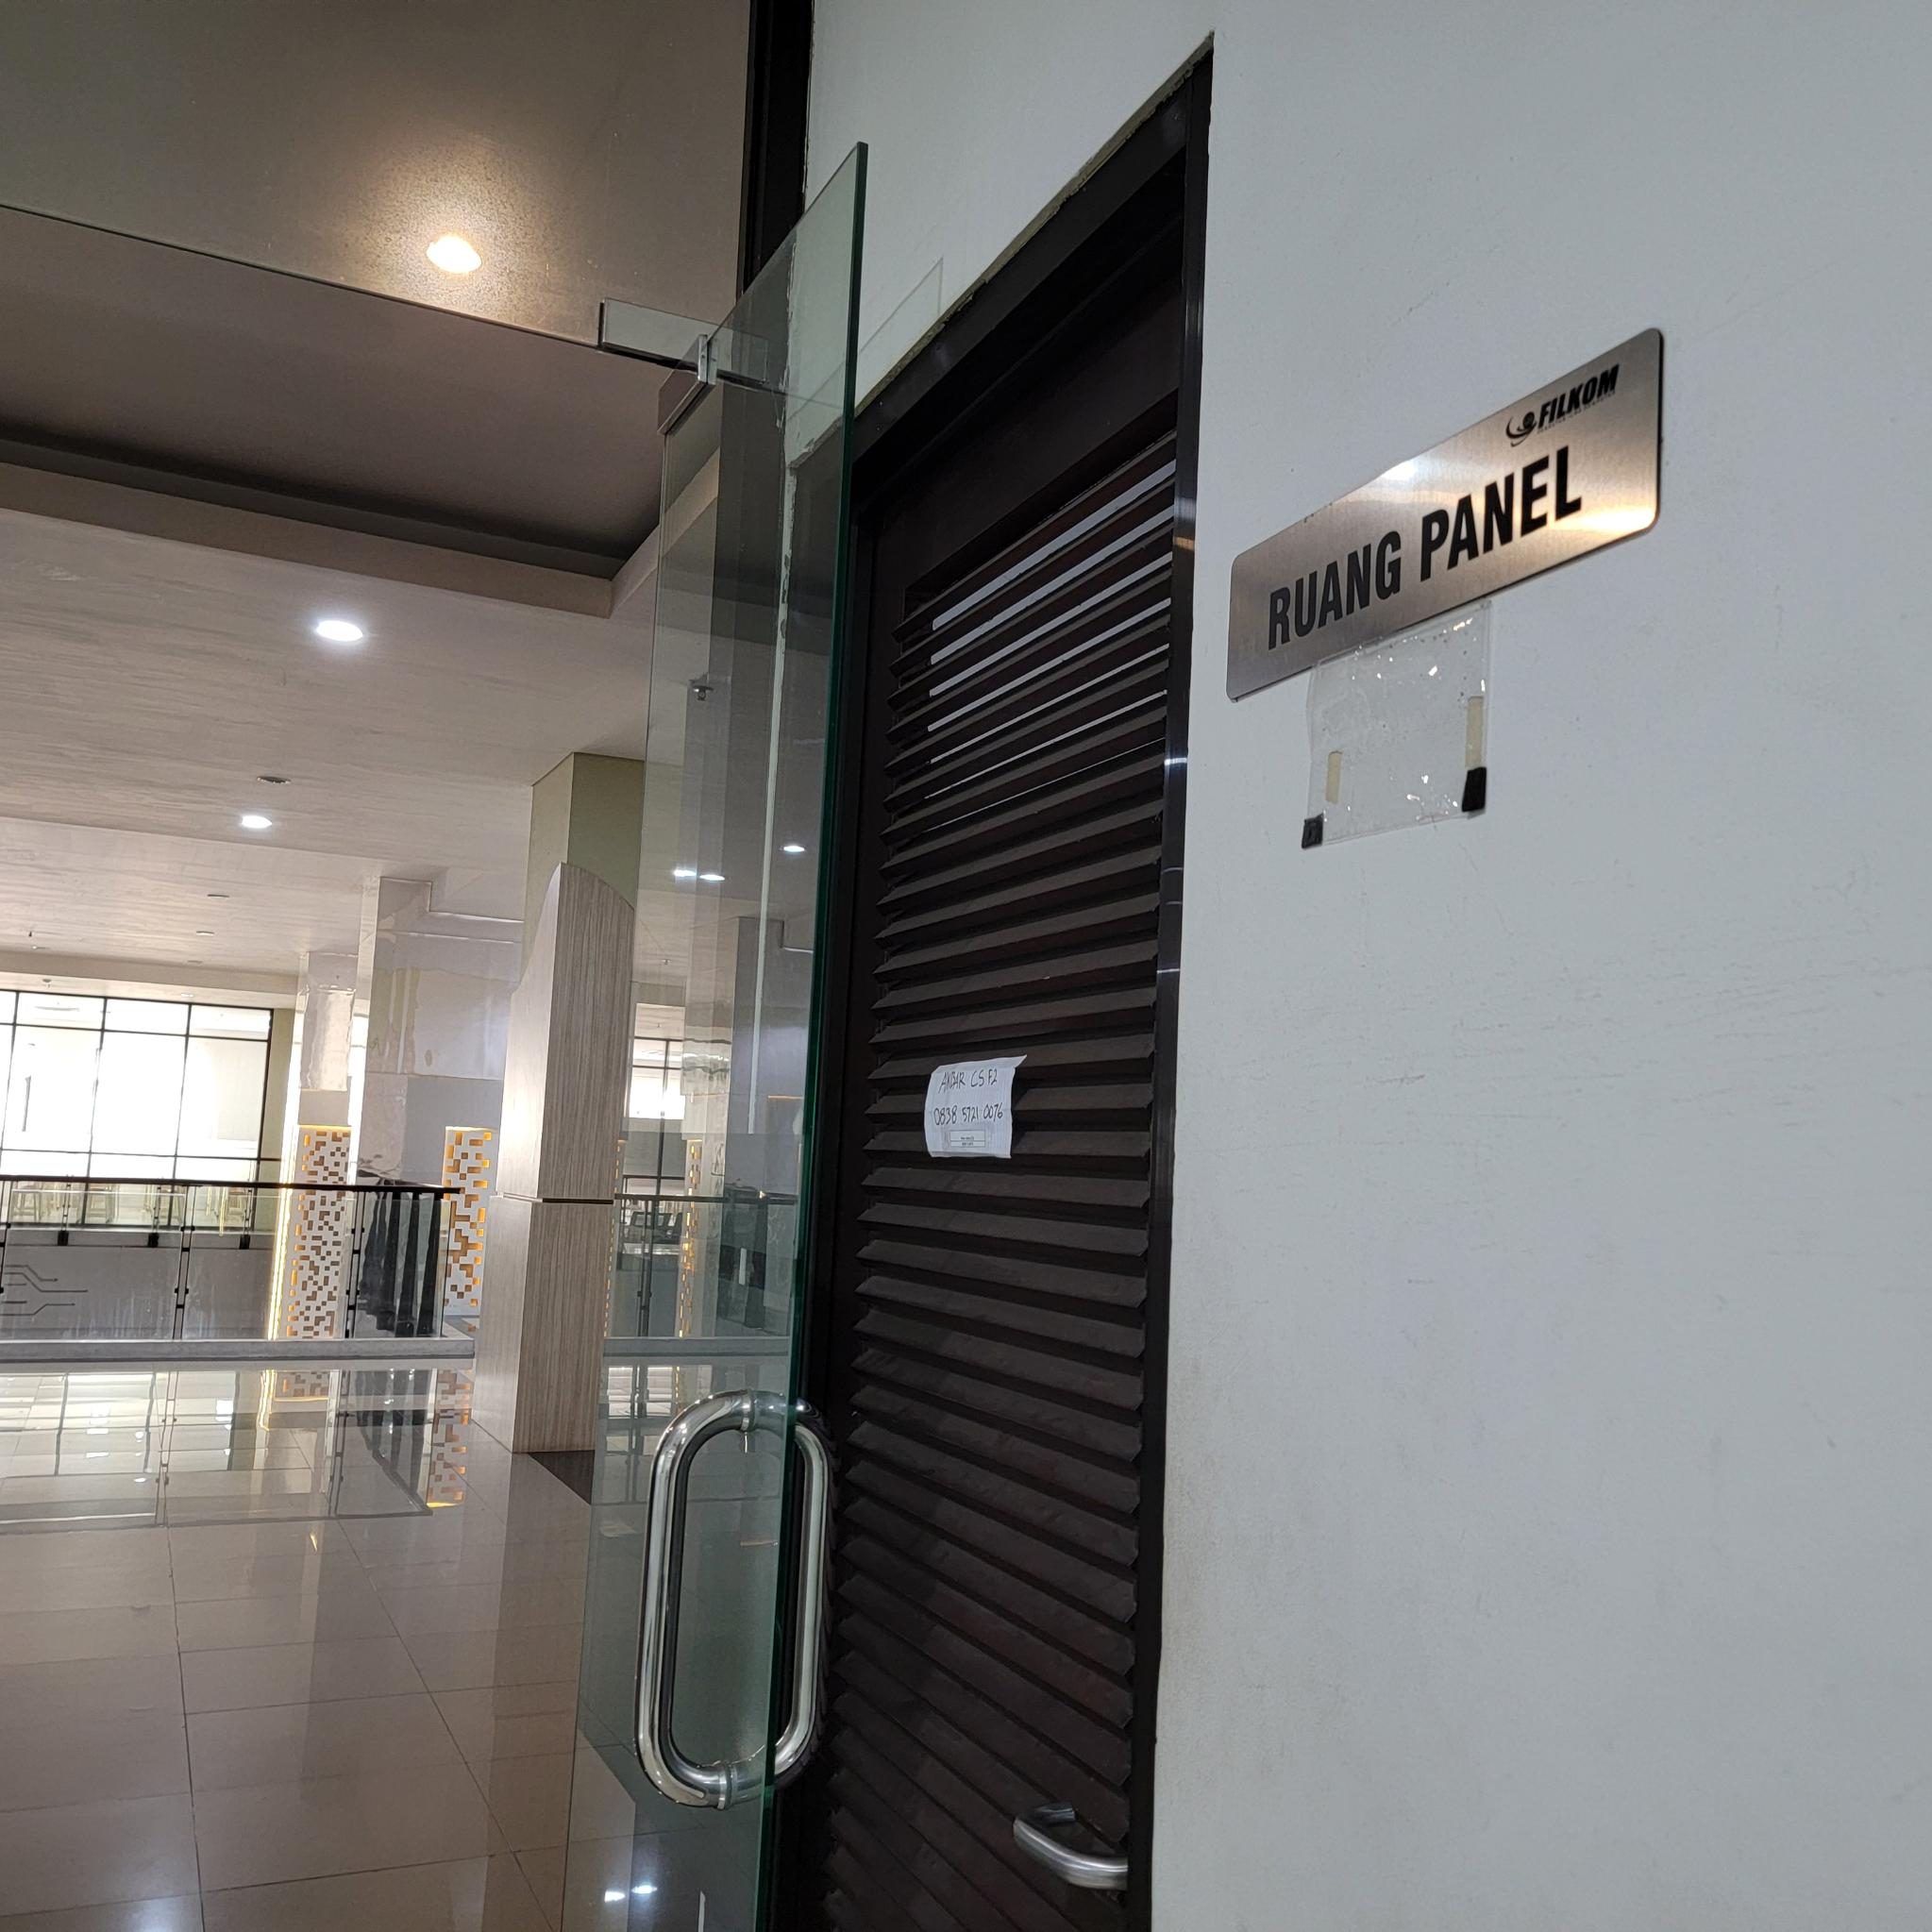plate: (1224, 326, 1665, 702)
